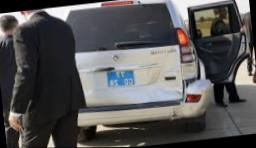Bumper: (173, 58, 217, 115)
